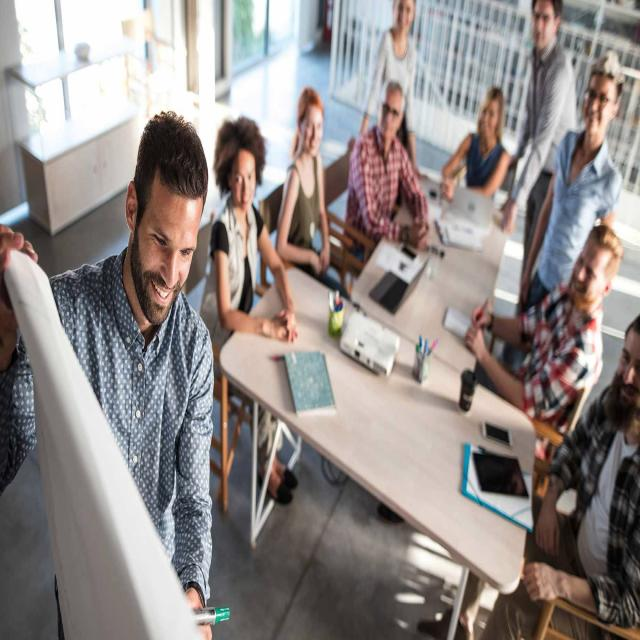adult: (0, 111, 220, 640), (462, 226, 622, 429), (521, 53, 622, 310), (204, 115, 299, 348), (274, 88, 333, 262)
